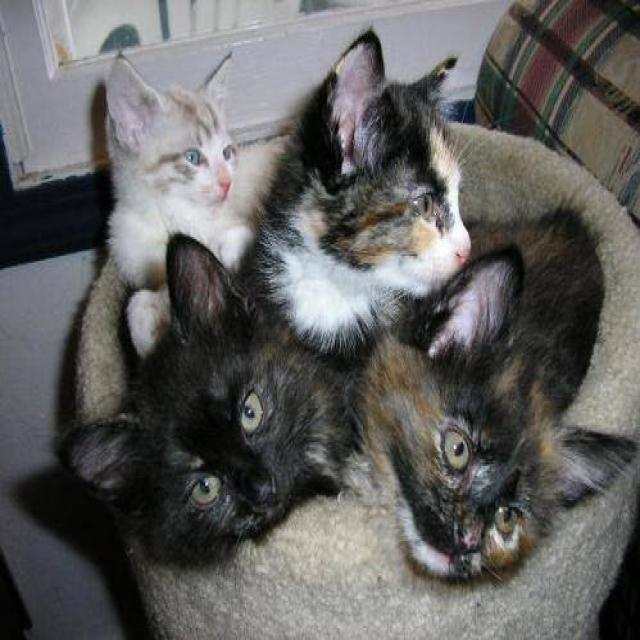cat: (351, 201, 639, 587), (55, 228, 363, 566), (245, 26, 473, 357), (101, 44, 291, 358)
